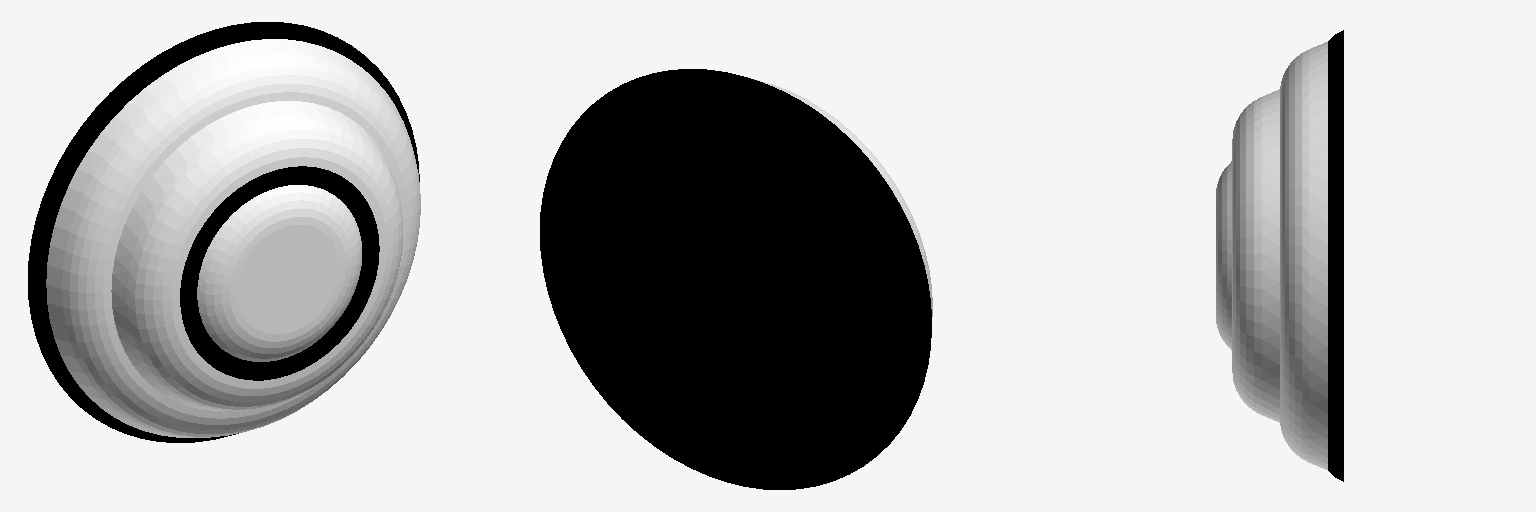
The model's file is fret.obj.
The picture shows the model from 3 angles: view 1: azimuth 30°, elevation 25°; view 2: azimuth 150°, elevation 25°; view 3: azimuth 270°, elevation 25°; orthographic projection.
Visible parts, largest first — view 1: fret; view 2: fret; view 3: fret.
Boxes of the visible parts, <box> form: fret: <box>28,22,420,442</box>; fret: <box>540,69,932,489</box>; fret: <box>1216,30,1343,481</box>.
Size of the model in its own units: 0.95 by 0.9489 by 0.27.